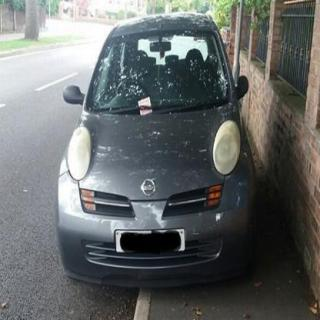Normal_vehicle: (56, 13, 255, 286)
